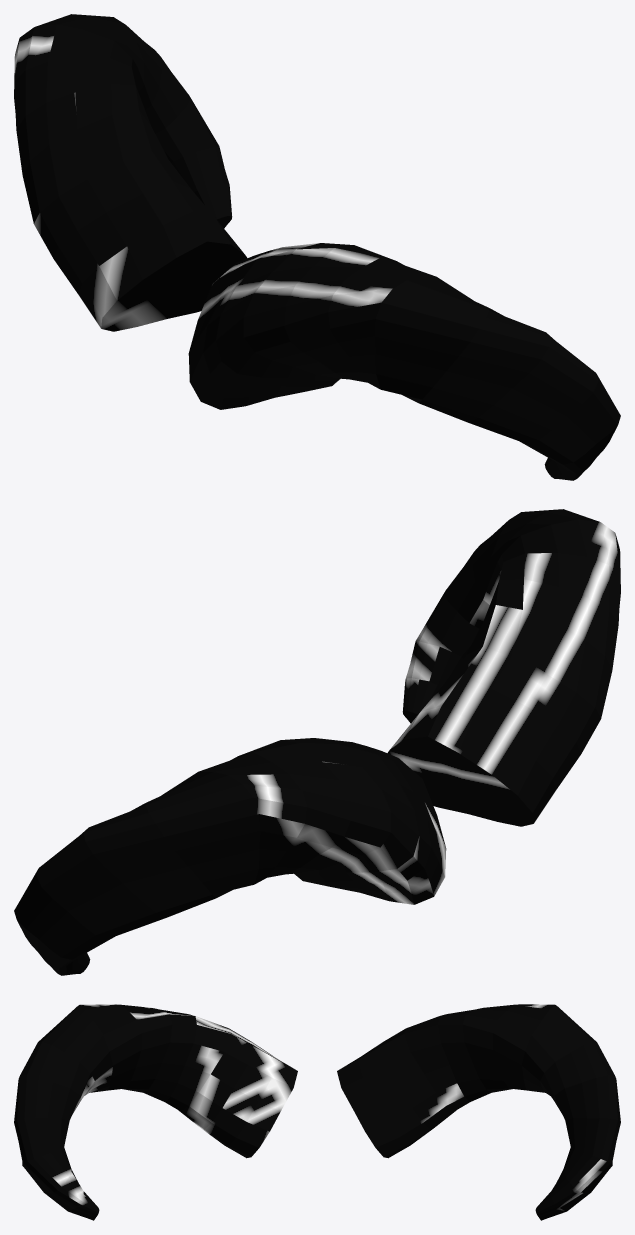
Rendered from horns3.fbx.
The picture shows the model from 3 angles, top to bottom: view 1: azimuth 30°, elevation 25°; view 2: azimuth 150°, elevation 25°; view 3: azimuth 270°, elevation 25°; orthographic projection. The views are drawn at different scales.
Visible parts, largest first — view 1: Cylinder.001; view 2: Cylinder.001; view 3: Cylinder.001.
Part boxes in pixels (<box>): Cylinder.001: <box>14,14,620,480</box>; Cylinder.001: <box>14,509,620,975</box>; Cylinder.001: <box>14,1004,620,1220</box>.
Bounding box in the file's own units: 179 × 144 × 496.
